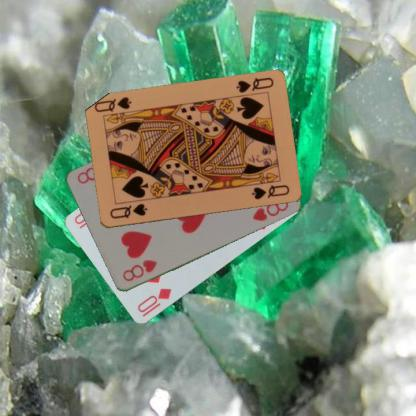10d: (134, 286, 172, 314)
8h: (120, 257, 158, 283)
Qs: (233, 74, 274, 94), (107, 201, 148, 220)
